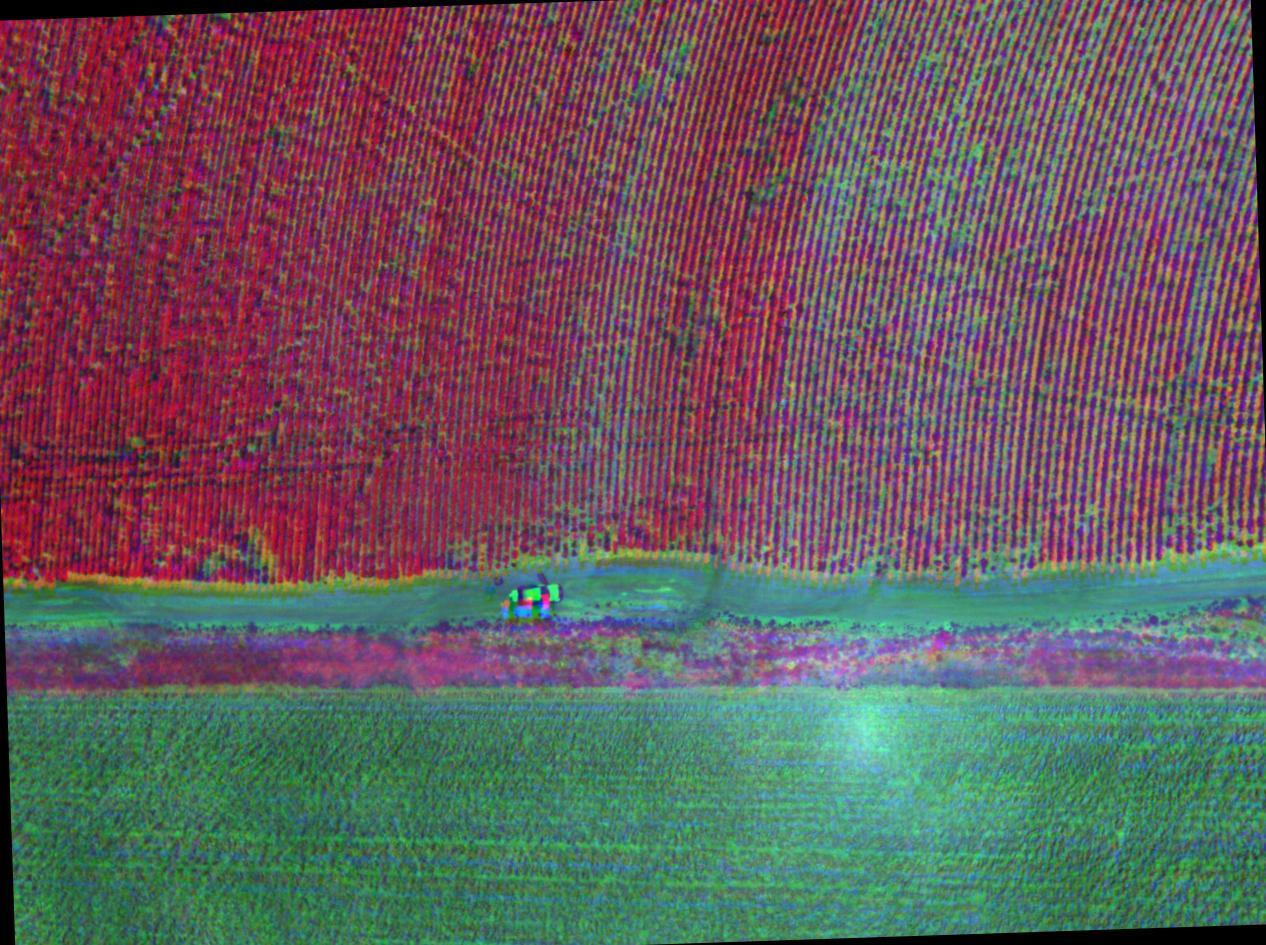dc: (846, 485, 1038, 578), (818, 123, 924, 243), (951, 128, 1025, 271), (1066, 90, 1150, 214), (866, 15, 943, 107)
